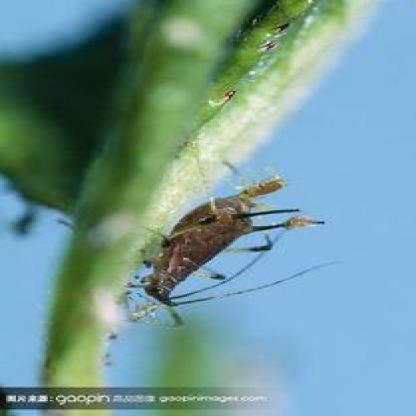aphid: (130, 165, 309, 329)
